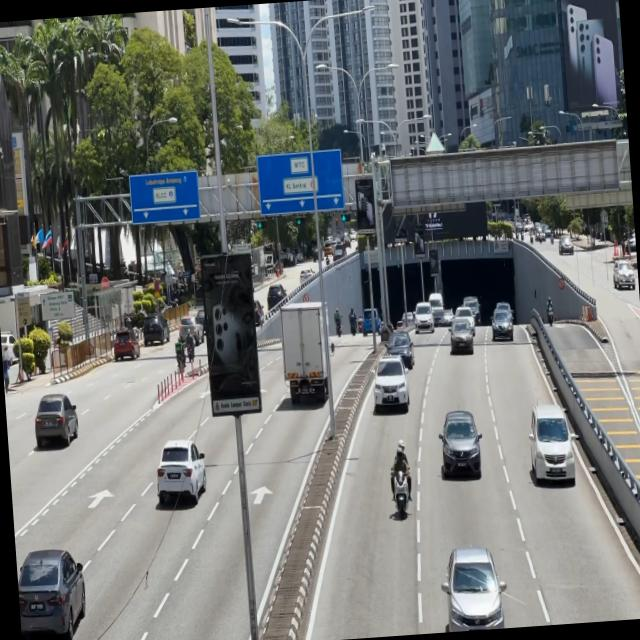Vehicle: (15, 544, 90, 640), (275, 295, 337, 408), (438, 544, 505, 632), (523, 395, 577, 490), (151, 434, 210, 515), (439, 403, 484, 483), (32, 394, 83, 453), (370, 351, 412, 417), (138, 306, 170, 350), (384, 327, 416, 371), (108, 322, 140, 362), (449, 319, 475, 355), (491, 309, 516, 341), (412, 303, 436, 336), (177, 314, 204, 343)
